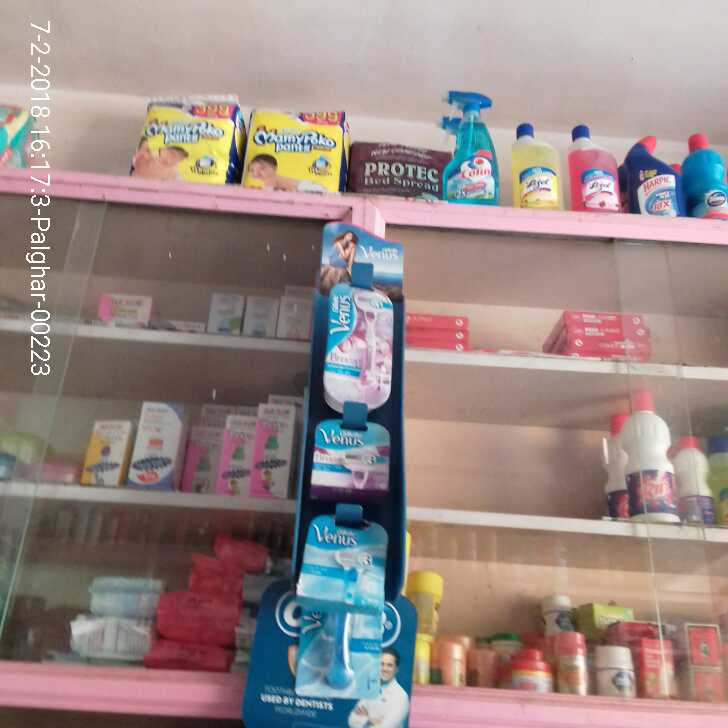venus: (293, 511, 394, 618), (322, 278, 392, 414), (310, 418, 390, 496)
